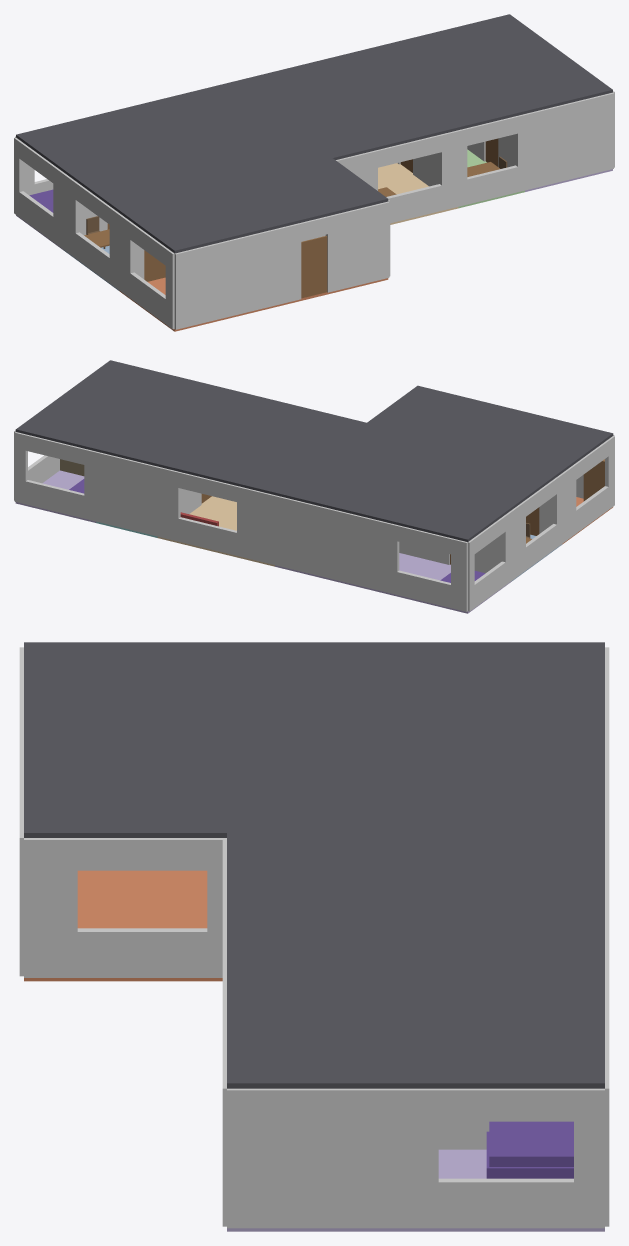
Rendered from house-modern.obj.
The picture shows the model from 3 angles, top to bottom: view 1: azimuth 30°, elevation 25°; view 2: azimuth 150°, elevation 25°; view 3: azimuth 270°, elevation 25°; orthographic projection. The views are drawn at different scales.
Bounding box in the file's own units: 18.65 × 2.9 × 10.45.
